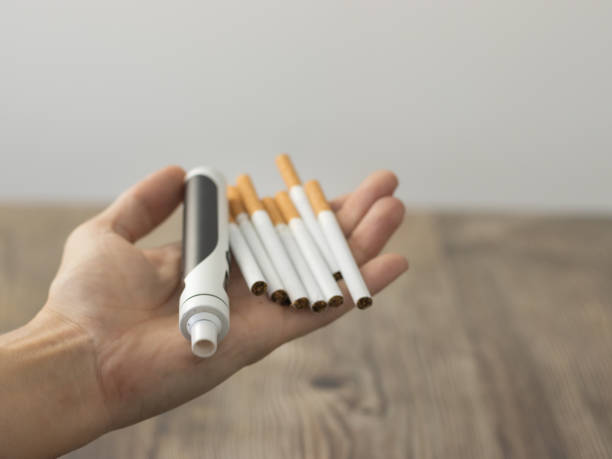cigarette: (234, 174, 309, 312), (303, 178, 375, 310), (179, 172, 230, 357), (272, 189, 346, 310), (274, 153, 343, 281), (223, 183, 289, 306), (262, 196, 326, 314), (223, 200, 269, 297)
